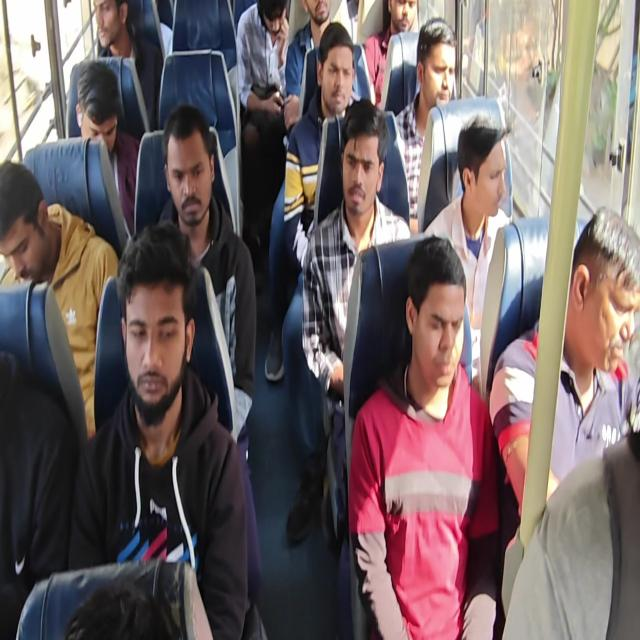person: (113, 212, 191, 429), (563, 202, 636, 373), (388, 236, 464, 386), (60, 564, 190, 638), (4, 144, 56, 292), (166, 96, 222, 227), (337, 106, 388, 219), (457, 100, 505, 220), (68, 59, 129, 148), (419, 19, 473, 117), (307, 18, 357, 112), (93, 2, 133, 57), (257, 2, 294, 39), (387, 0, 422, 29), (306, 0, 334, 19)
